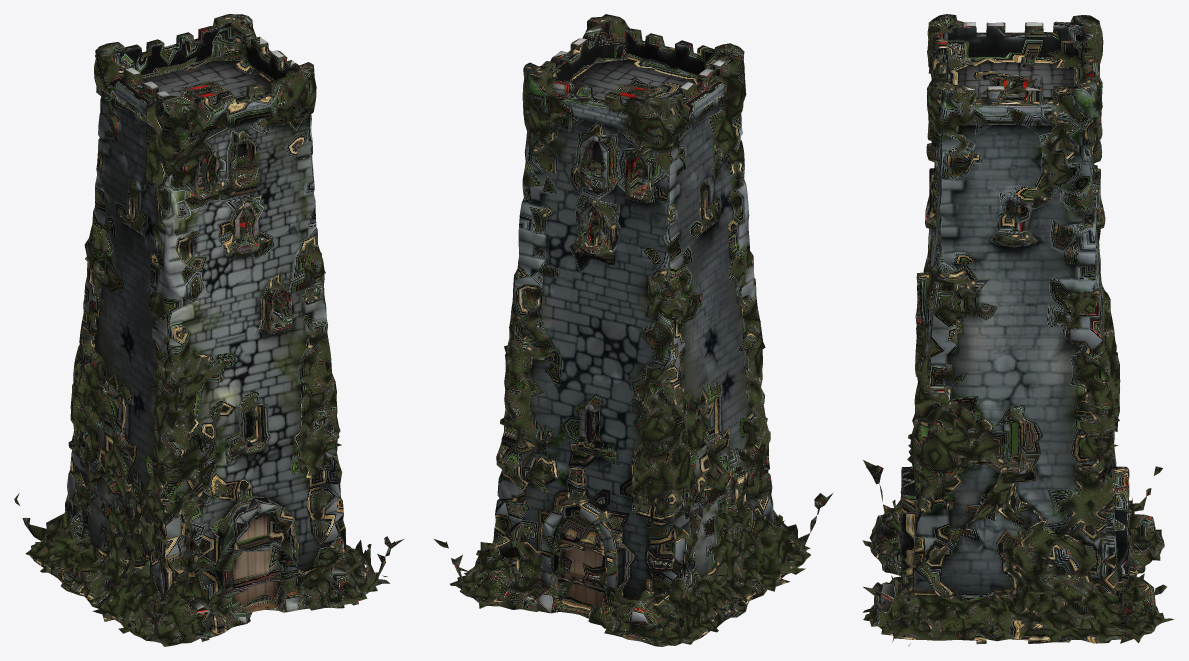
3 views of the same model, side by side, from view 1: azimuth 30°, elevation 25°; view 2: azimuth 150°, elevation 25°; view 3: azimuth 270°, elevation 25° (orthographic). The views are drawn at different scales.
Bounding box in the file's own units: 1.01 × 1.9 × 1.02.
Materials: 1 (1 with a texture image).
